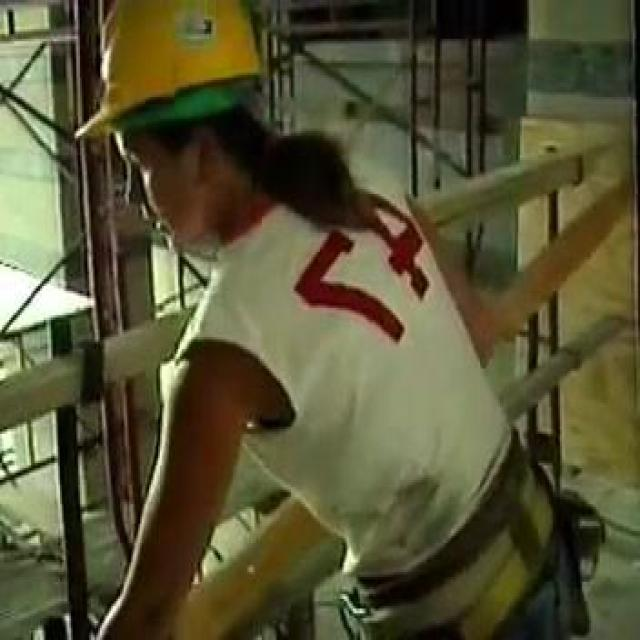Safety-Helmet: (69, 0, 291, 160)
